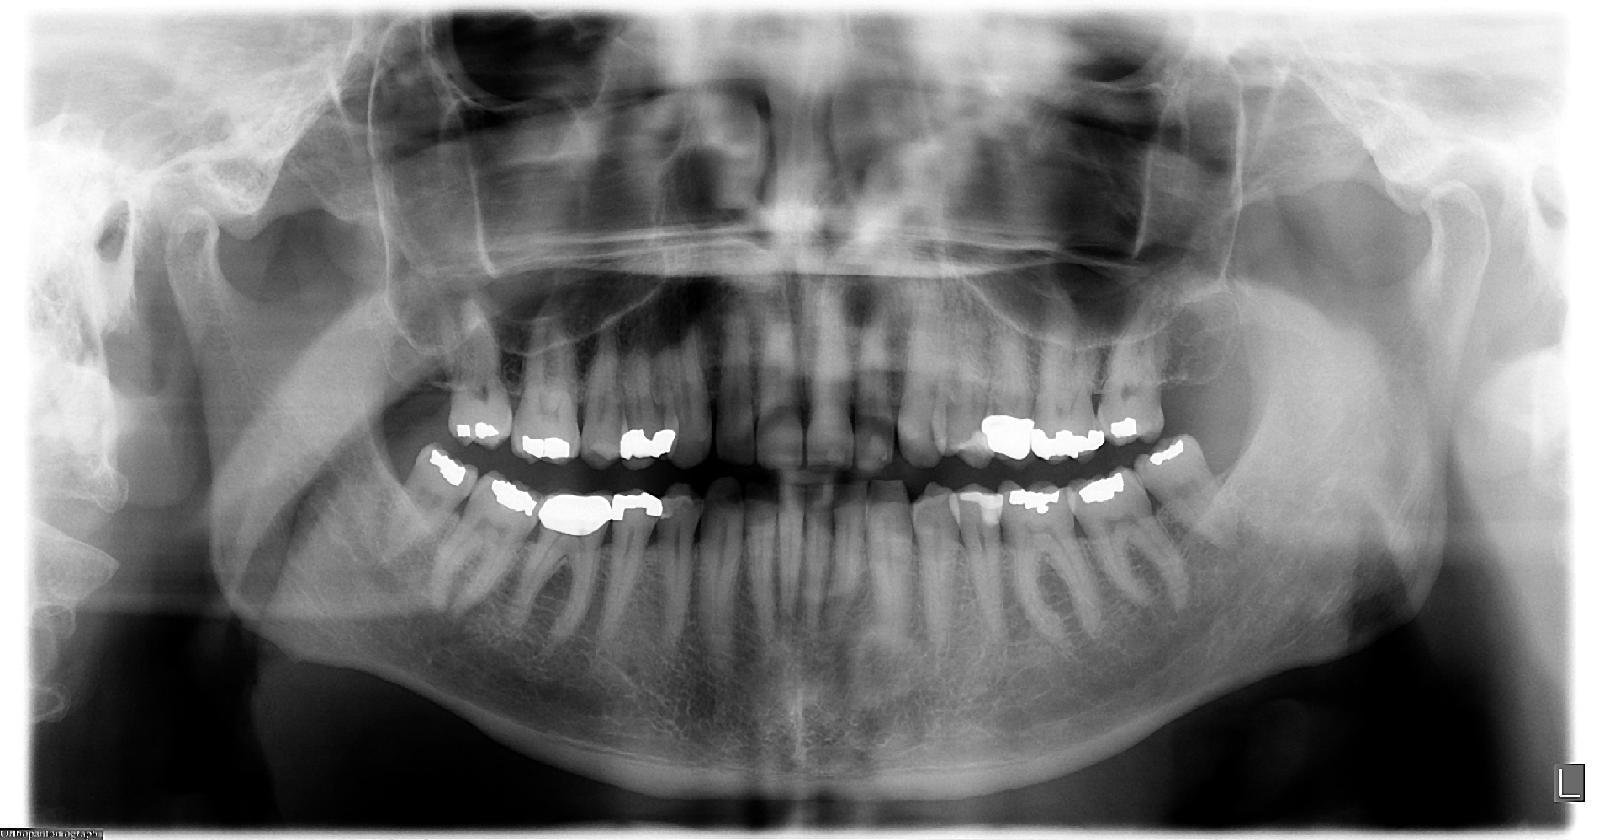Erupted: (1132, 429, 1248, 563), (379, 439, 480, 571)
